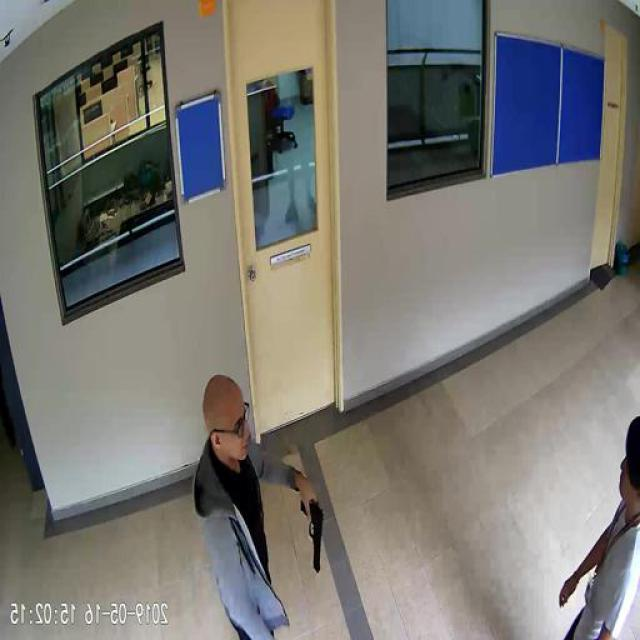Gun: (301, 488, 325, 572)
